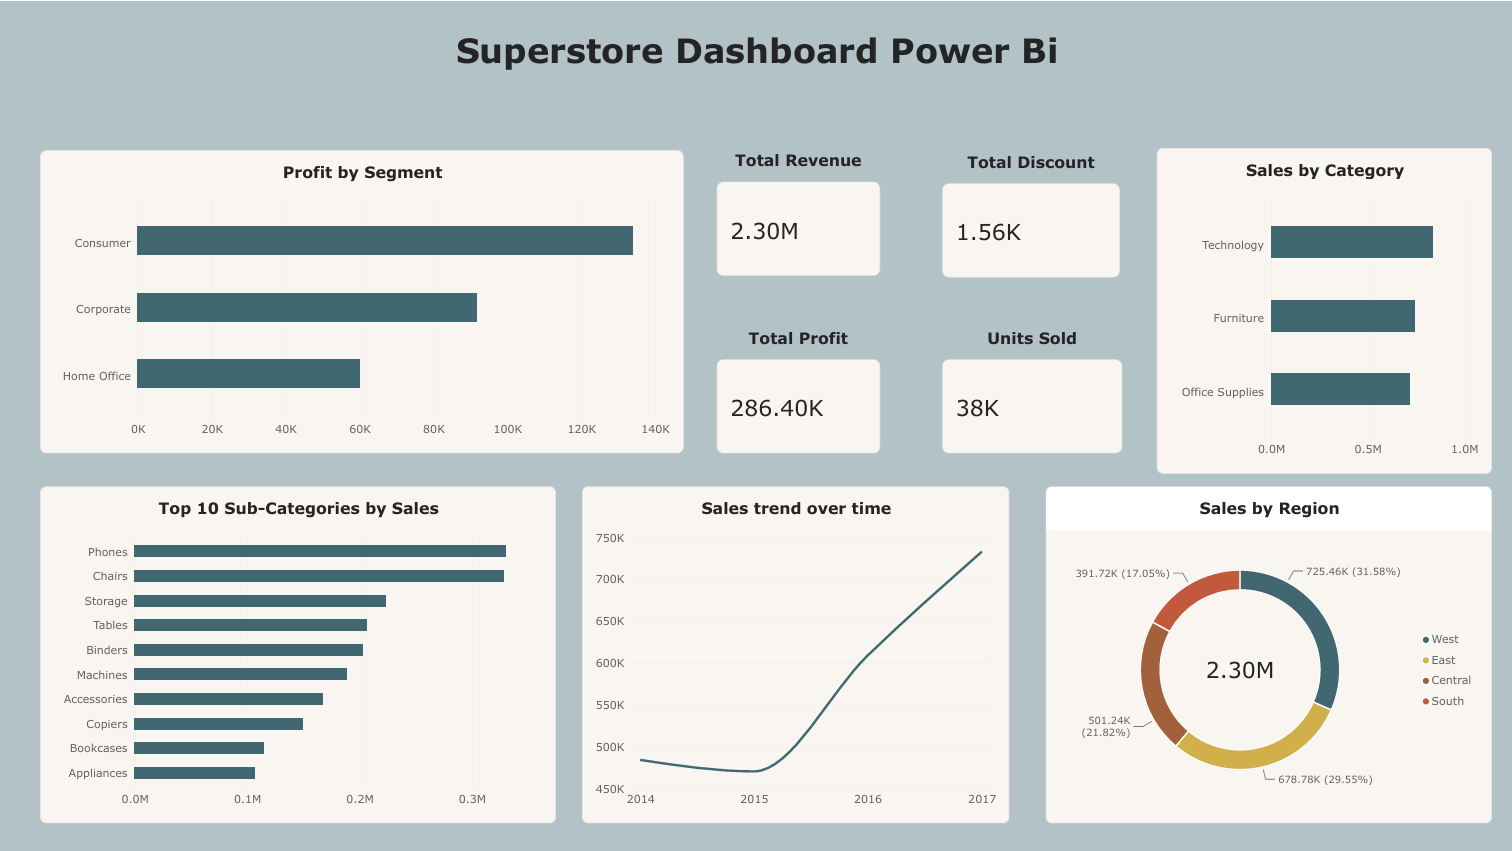

What the dashboard file says about the page in this screenshot:
{"tool":"powerbi","page":{"name":"Page 1","canvas":[1920,1080],"ordinal":0},"visuals":[{"type":"cardVisual","title":"Total Revenue","fields":{"Data":["Sum(Superstore.Sales)"]},"box":[908.7,188.4,207.6,158.7],"z":0},{"type":"cardVisual","title":"Total Profit","fields":{"Data":["Sum(Superstore.Profit)"]},"box":[908.7,413.4,207.6,158.7],"z":1000},{"type":"cardVisual","title":"Units Sold","fields":{"Data":["Sum(Superstore.Quantity)"]},"box":[1194.8,413.4,228.5,158.7],"z":2000},{"type":"cardVisual","title":"Total Discount","fields":{"Data":["Sum(Superstore.Discount)"]},"box":[1194.8,190.1,225,158.7],"z":3000},{"type":"clusteredBarChart","title":"Sales by Category","fields":{"Category":["Superstore.Category"],"Y":["Sum(Superstore.Sales)"]},"box":[1466.9,184.9,425.6,413.4],"z":4000},{"type":"donutChart","title":"Sales by Region","fields":{"Category":["Superstore.Region"],"Y":["Sum(Superstore.Sales)"]},"box":[1325.6,614,566.9,427.3],"z":5000},{"type":"textbox","box":[0,35,1920.4,69.8],"z":6000},{"type":"lineChart","title":"Sales trend over time","fields":{"Category":["Superstore.Order Date.Variation.Date Hierarchy.Year","Superstore.Order Date.Variation.Date Hierarchy.Quarter","Superstore.Order Date.Variation.Date Hierarchy.Month","Superstore.Order Date.Variation.Date Hierarchy.Day"],"Y":["Sum(Superstore.Sales)"]},"box":[737.8,614,542.4,427.3],"z":7000},{"type":"clusteredBarChart","title":"Profit by Segment","fields":{"Category":["Superstore.Segment"],"Y":["Sum(Superstore.Profit)"]},"box":[50.6,188.4,816.3,383.7],"z":8000},{"type":"clusteredBarChart","title":"Top 10 Sub-Categories by Sales","fields":{"Category":["Superstore.Sub-Category"],"Y":["Sum(Superstore.Sales)"]},"box":[50.6,614,654.1,427.3],"z":9000}]}

Visuals, with their boxes in screenshot pixels (x1, y1, x2, y2), scaled from the page's 1920x1080 canvas onto the 1512x851 screenshot:
"Total Revenue" cardVisual: {"x1": 716, "y1": 148, "x2": 879, "y2": 274}
"Total Profit" cardVisual: {"x1": 716, "y1": 326, "x2": 879, "y2": 451}
"Units Sold" cardVisual: {"x1": 941, "y1": 326, "x2": 1121, "y2": 451}
"Total Discount" cardVisual: {"x1": 941, "y1": 150, "x2": 1118, "y2": 275}
"Sales by Category" clusteredBarChart: {"x1": 1155, "y1": 146, "x2": 1490, "y2": 471}
"Sales by Region" donutChart: {"x1": 1044, "y1": 484, "x2": 1490, "y2": 821}
textbox: {"x1": 0, "y1": 28, "x2": 1511, "y2": 83}
"Sales trend over time" lineChart: {"x1": 581, "y1": 484, "x2": 1008, "y2": 821}
"Profit by Segment" clusteredBarChart: {"x1": 40, "y1": 148, "x2": 683, "y2": 451}
"Top 10 Sub-Categories by Sales" clusteredBarChart: {"x1": 40, "y1": 484, "x2": 555, "y2": 821}
